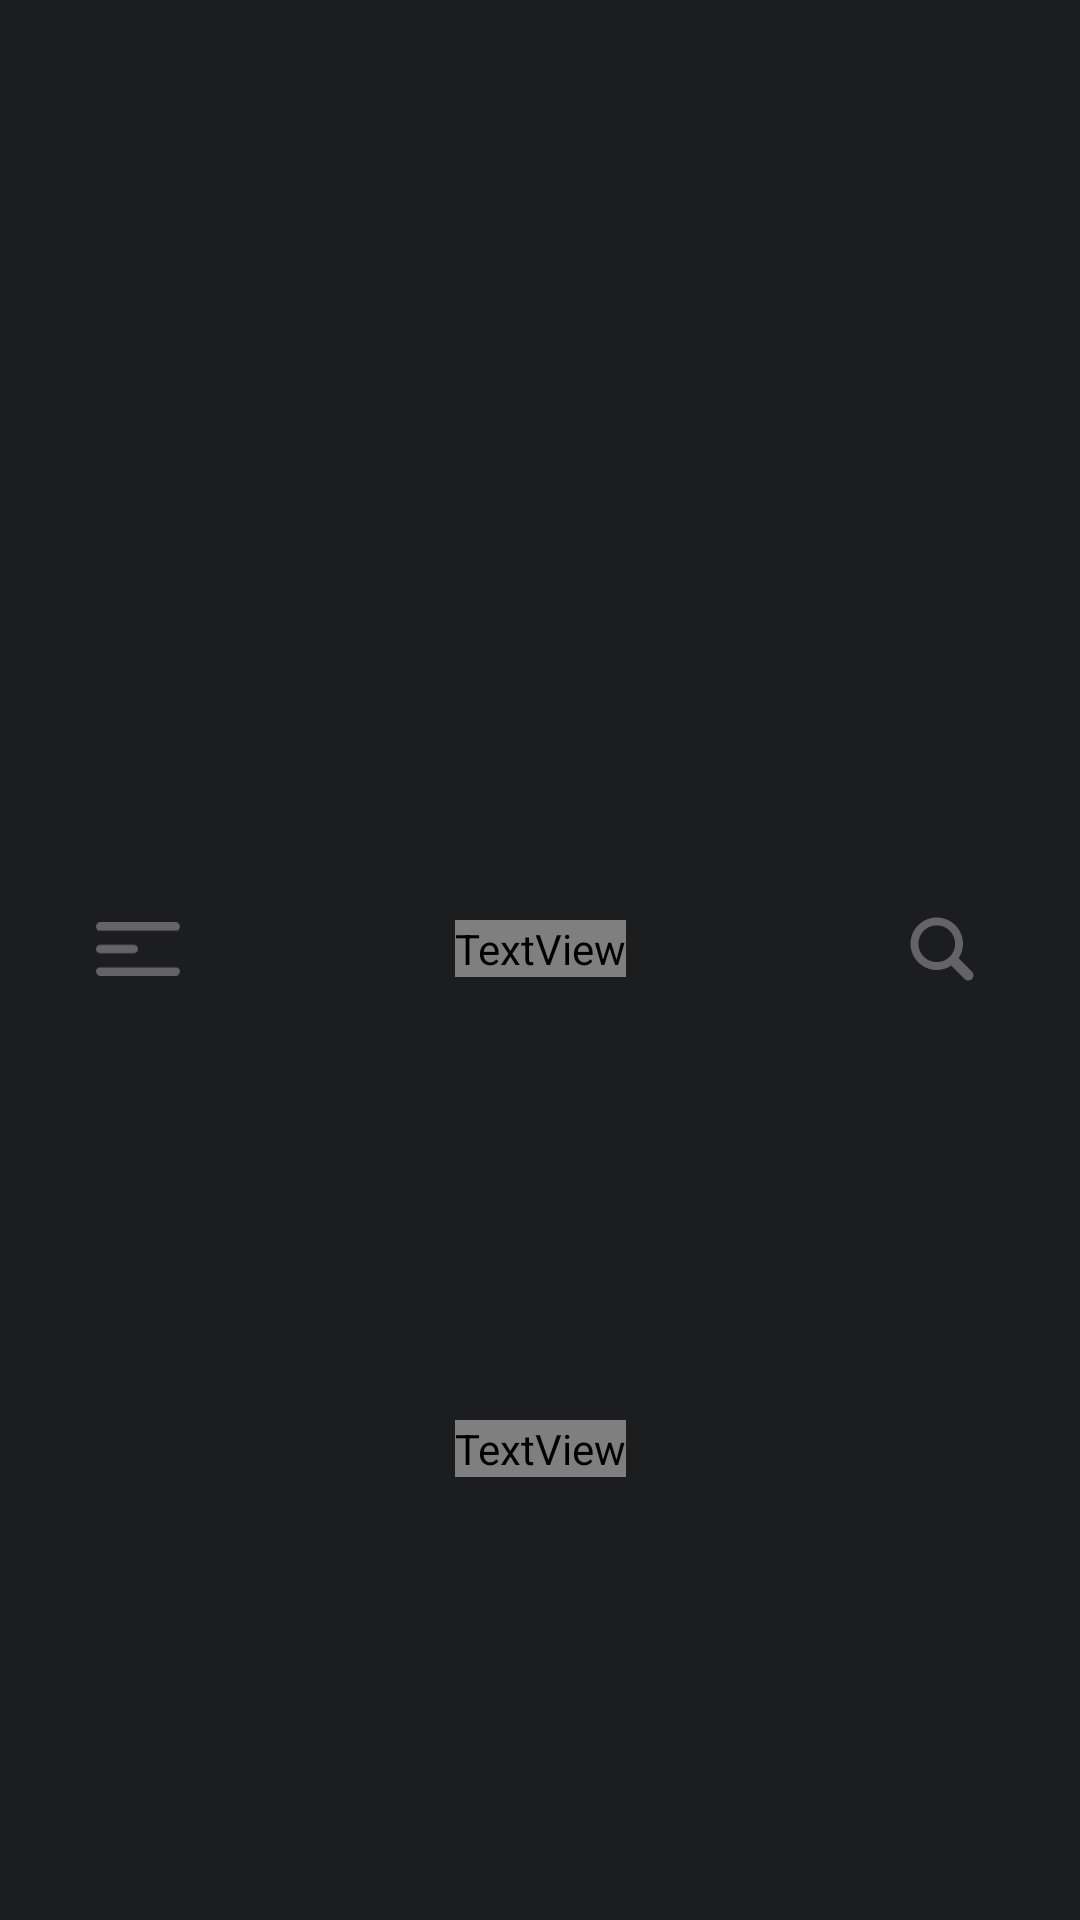

Where icons sit on this 1080*1920 app screen, as (x1, y1, x2, y2):
burger: (96, 922, 180, 976)
search: (910, 917, 974, 981)
